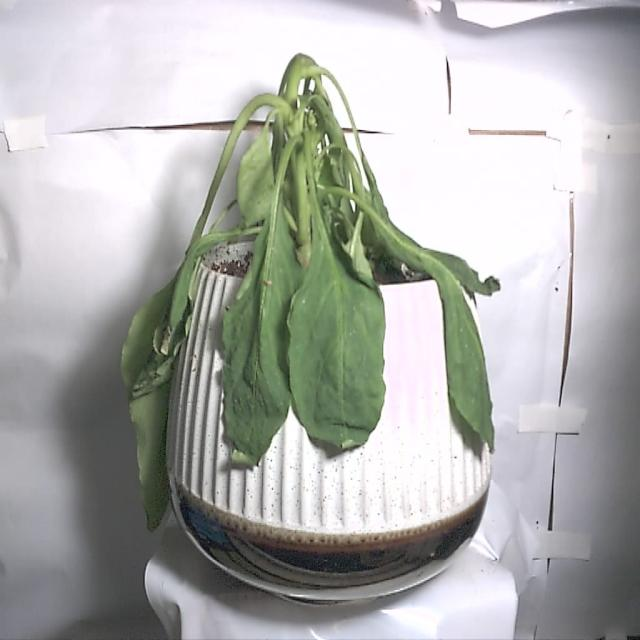Leaf: (217, 201, 314, 475), (282, 225, 388, 455)
